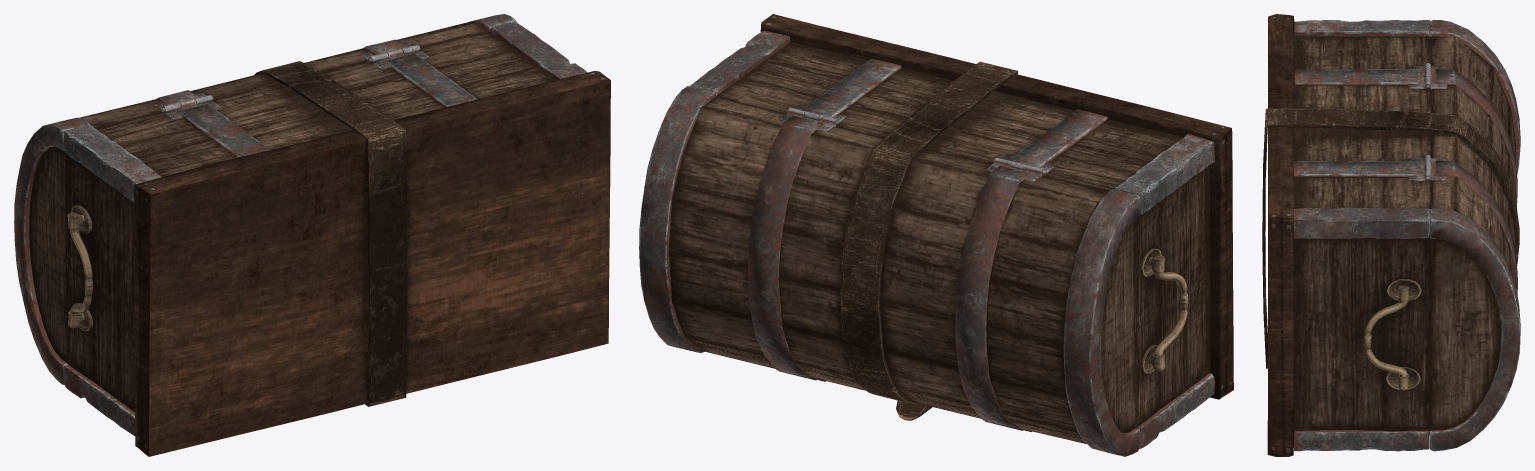
File: Chest.obj
3 views of the same model, side by side, from view 1: azimuth 30°, elevation 25°; view 2: azimuth 150°, elevation 25°; view 3: azimuth 270°, elevation 25° (orthographic). The views are drawn at different scales.
Visible parts, largest first — view 1: defaultMaterial; view 2: defaultMaterial; view 3: defaultMaterial.
Part boxes in pixels (x1=…): defaultMaterial: x1=14, y1=14, x2=610, y2=456; defaultMaterial: x1=639, y1=14, x2=1233, y2=456; defaultMaterial: x1=1262, y1=14, x2=1520, y2=456.
Bounding box in the file's own units: 2 × 1.15 × 1.03.
